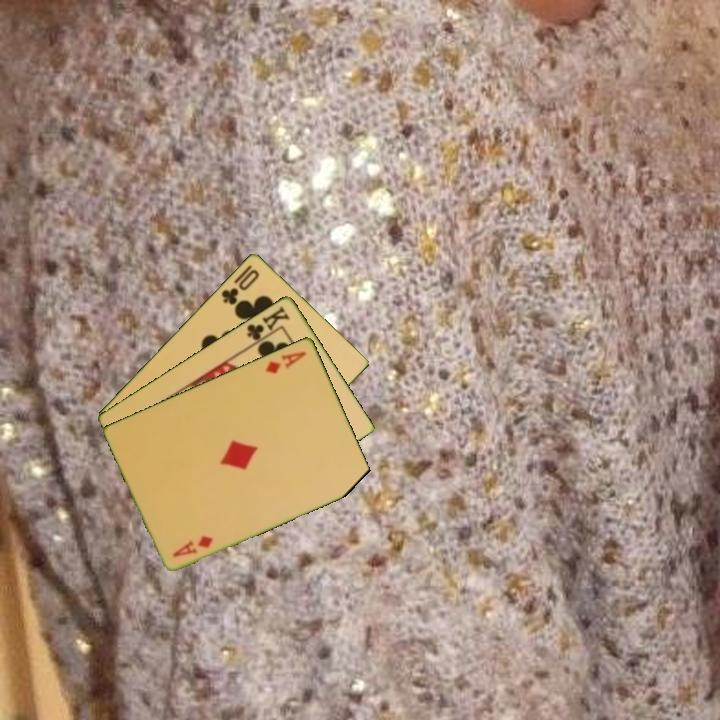10c: (217, 265, 262, 308)
Ad: (261, 347, 309, 376), (169, 531, 216, 560)
Kc: (243, 302, 293, 347)
